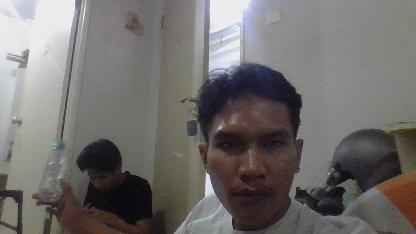Plastic Bottle: (37, 141, 68, 205)
